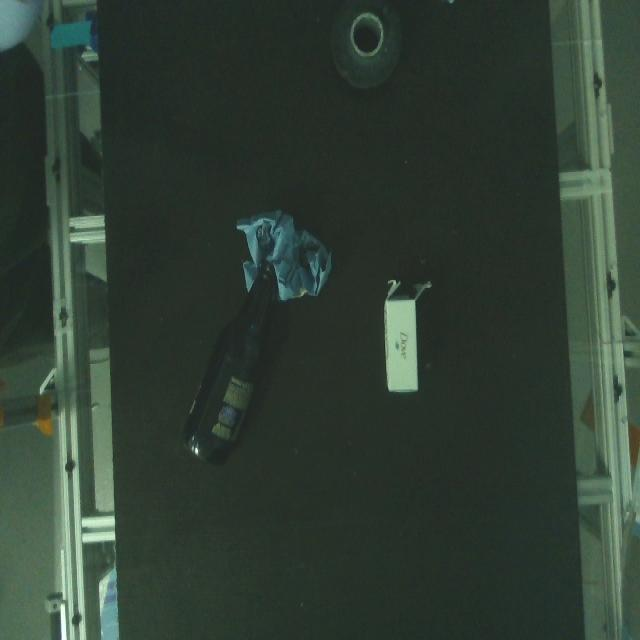non-paper: (180, 261, 283, 485), (332, 0, 405, 116)
paper: (227, 210, 339, 307), (380, 265, 434, 410)
